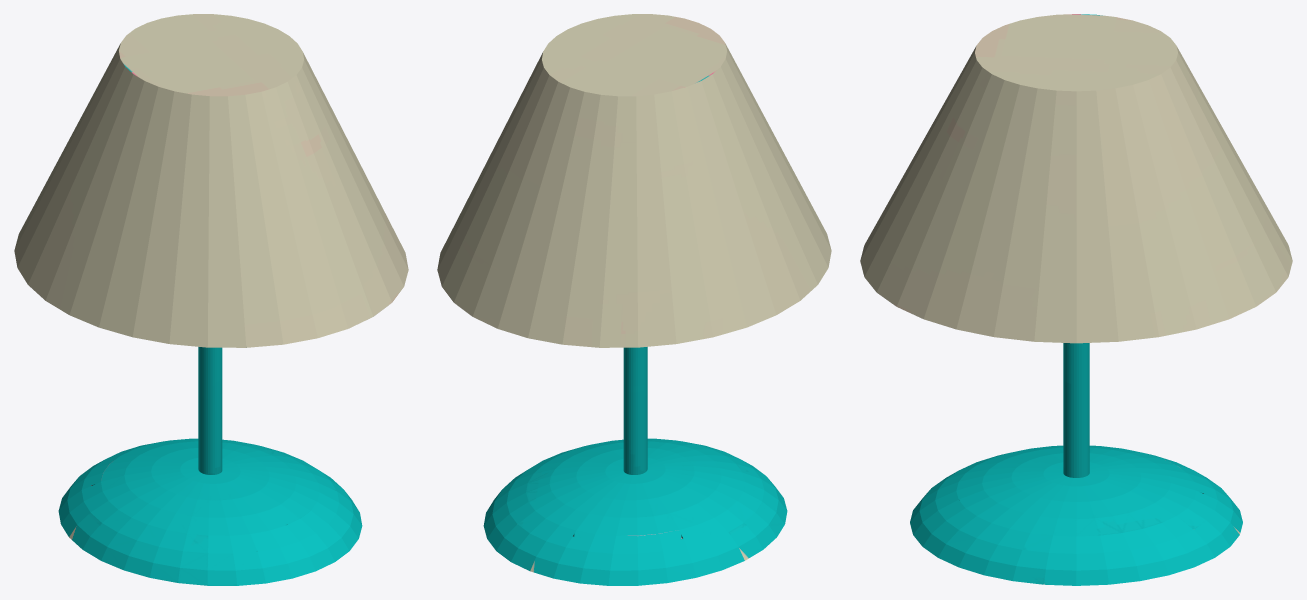
File: Lampara.obj
The picture shows the model from 3 angles, left to right: view 1: azimuth 30°, elevation 25°; view 2: azimuth 150°, elevation 25°; view 3: azimuth 270°, elevation 25°; orthographic projection.
Visible parts, largest first — view 1: Esfera; view 2: Esfera; view 3: Esfera.
Boxes of the visible parts, left/top/right/bottom form: Esfera: left=14, top=14, right=408, bottom=585; Esfera: left=437, top=14, right=831, bottom=585; Esfera: left=860, top=14, right=1292, bottom=585.
Size of the model in its own units: 4.5 by 6 by 5.
Materials: 1 (1 with a texture image).
